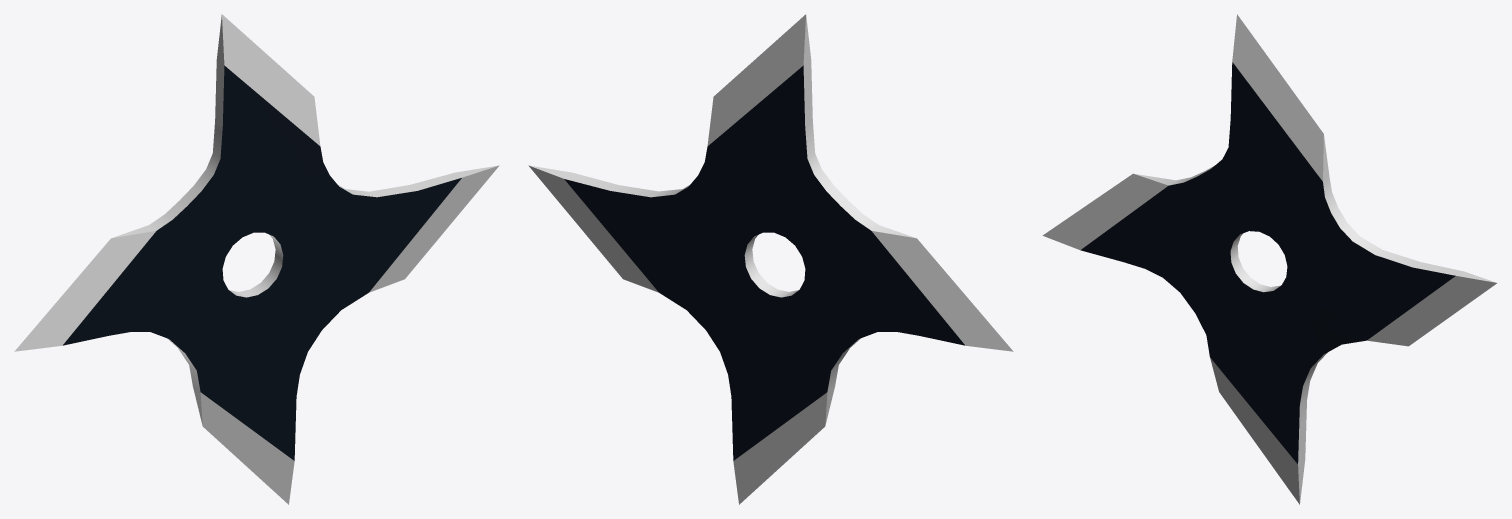
The model's file is Shuriken_5.fbx.
The picture shows the model from 3 angles, left to right: view 1: azimuth 30°, elevation 25°; view 2: azimuth 150°, elevation 25°; view 3: azimuth 330°, elevation 25°; orthographic projection. The views are drawn at different scales.
Parts seen in each view (by area): view 1: Shuriken_5; view 2: Shuriken_5; view 3: Shuriken_5.
Boxes of the visible parts, x1,y1,x2,y2 form: Shuriken_5: [14, 14, 499, 504]; Shuriken_5: [528, 14, 1013, 504]; Shuriken_5: [1042, 14, 1496, 504].
Size of the model in its own units: 1.85 by 1.84 by 0.0569.
